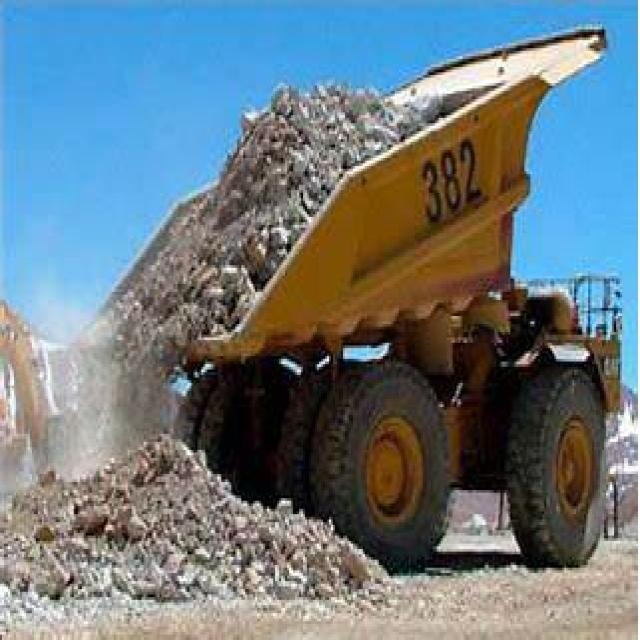dump_truck: (70, 13, 628, 573)
